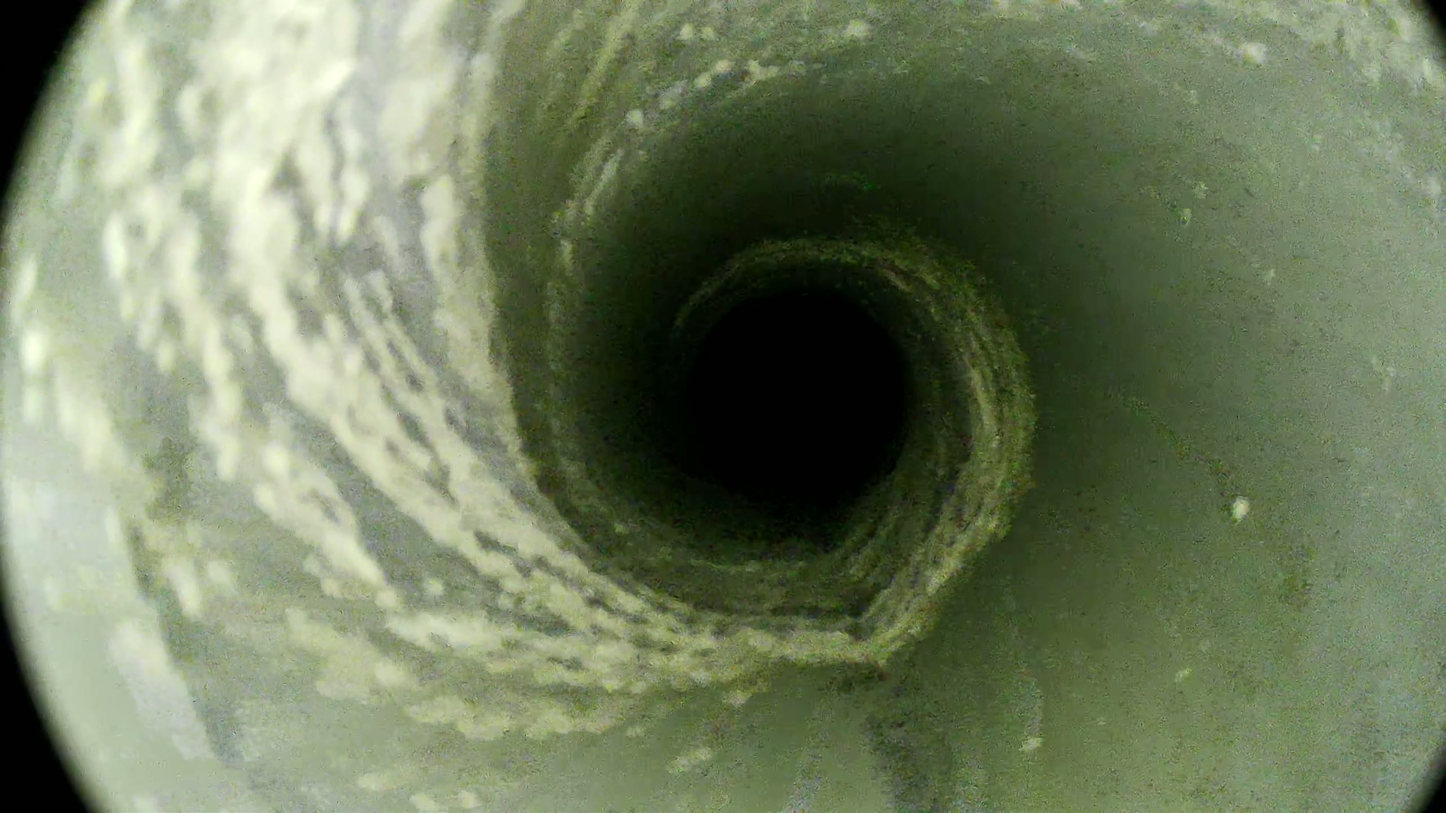hole: (690, 294, 904, 493)
